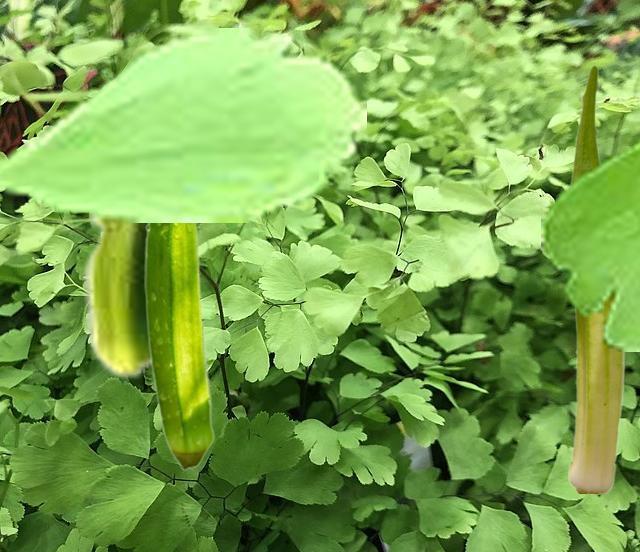okra: (81, 24, 248, 380), (568, 64, 624, 492), (144, 222, 214, 470)
